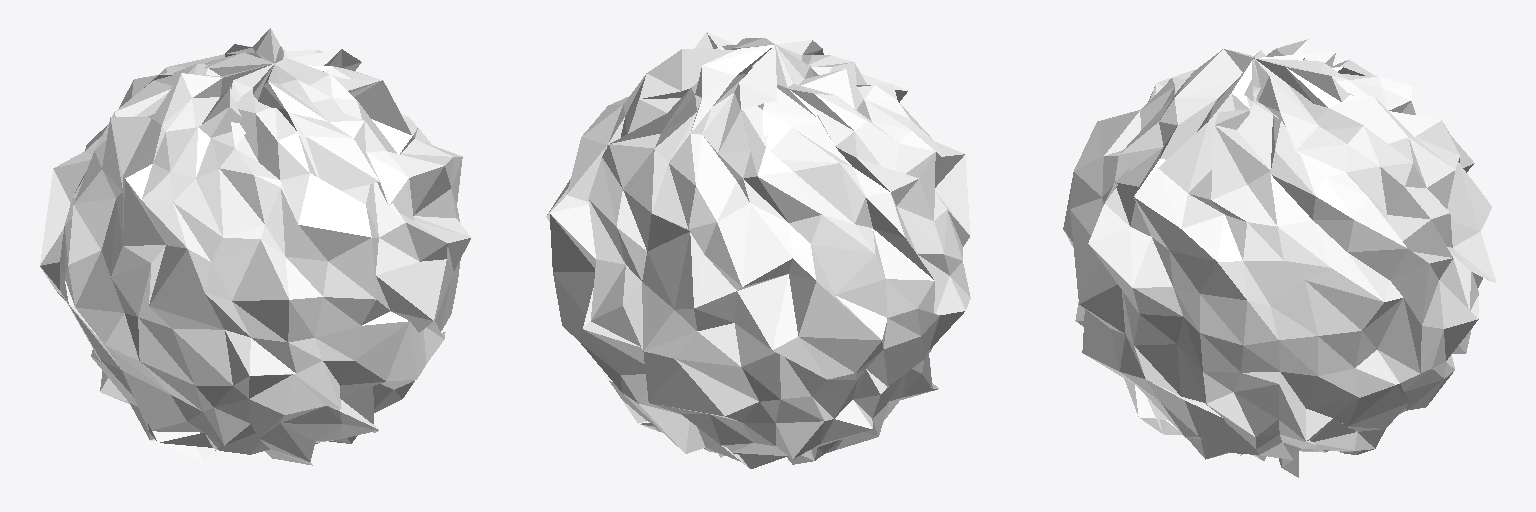
File: trash.obj
3 renders of one model, left to right at view 1: azimuth 30°, elevation 25°; view 2: azimuth 150°, elevation 25°; view 3: azimuth 270°, elevation 25°, orthographic.
Visible parts, largest first — view 1: Sphere; view 2: Sphere; view 3: Sphere.
Boxes of the visible parts, box(x1,y1,x2,y2) form: Sphere: box(40, 28, 471, 465); Sphere: box(546, 32, 970, 468); Sphere: box(1063, 39, 1496, 477).
Bounding box in the file's own units: 0.5683 × 0.6167 × 0.5941.